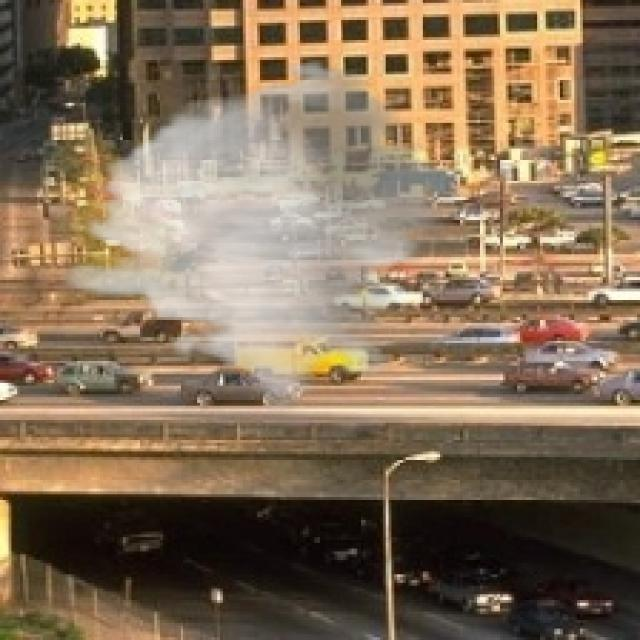Smoke: (54, 57, 466, 414)
